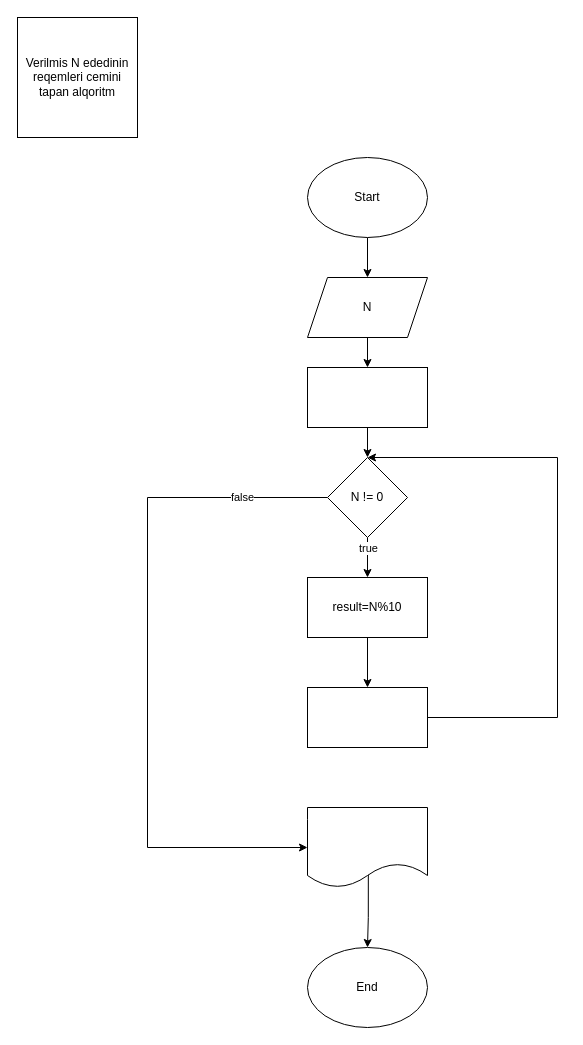
This 583x1045 diagram has some shape labels left out. The shapes that lost their labels are listed below. From the top down, each one's box as (x1, y1, x2, y2) in pixels, then its label:
(306, 366, 428, 428): result=0
(306, 686, 428, 748): N/=10
(306, 806, 428, 888): result
